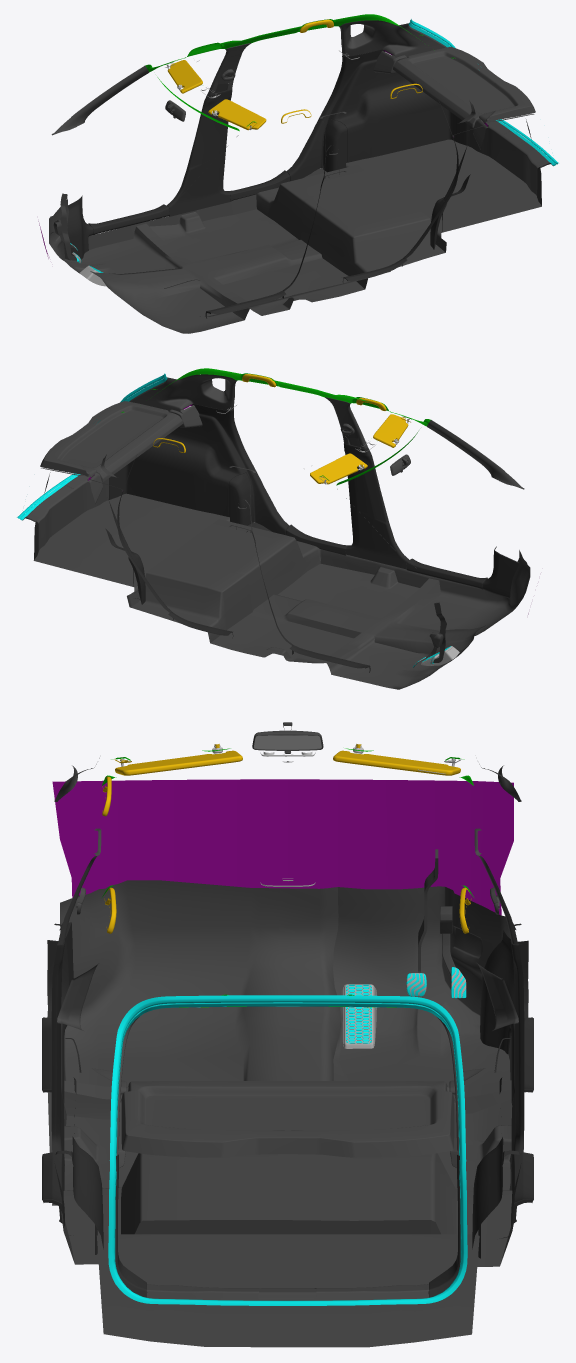
Rendered from MAGNITE_TURBO_CVT_XV_PRE_IN_BODY_MESH.glb.
3 renders of one model, top to bottom at view 1: azimuth 30°, elevation 25°; view 2: azimuth 150°, elevation 25°; view 3: azimuth 270°, elevation 25°, orthographic. The views are drawn at different scales.
Visible parts, largest first — view 1: MAGNITE_TURBO_CVT_XV_PRE_IN_BODY_MESH; view 2: MAGNITE_TURBO_CVT_XV_PRE_IN_BODY_MESH; view 3: MAGNITE_TURBO_CVT_XV_PRE_IN_BODY_MESH.
Boxes of the visible parts, x1,y1,x2,y2 form: MAGNITE_TURBO_CVT_XV_PRE_IN_BODY_MESH: (38,14,558,333); MAGNITE_TURBO_CVT_XV_PRE_IN_BODY_MESH: (17,368,530,689); MAGNITE_TURBO_CVT_XV_PRE_IN_BODY_MESH: (42,722,533,1347).
Size of the model in its own units: 3.06 by 1.25 by 1.44.
